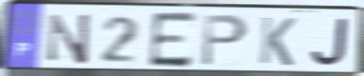2: (99, 15, 142, 65)
E: (147, 11, 199, 70)
J: (309, 17, 351, 68)
K: (257, 15, 298, 68)
N: (46, 12, 93, 67)
P: (199, 13, 250, 69)
